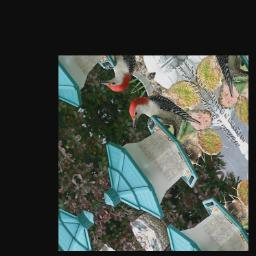Woodpecker: (120, 74, 202, 162)
